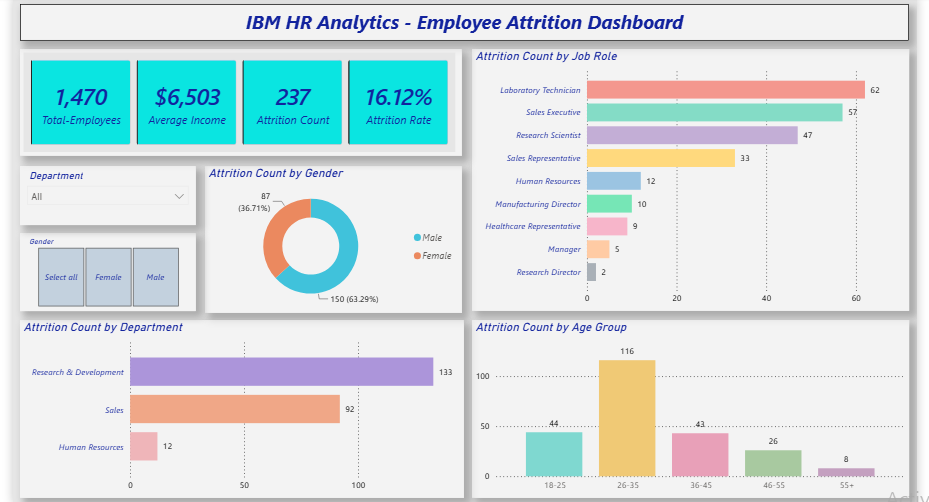

Layout of this report page (visuals, bound fields, positions):
{"tool":"powerbi","page":{"name":"Executive Summary","canvas":[1280,720],"ordinal":0},"visuals":[{"type":"donutChart","title":"Attrition Count by Gender","fields":{"Category":["hr_analytics_clean.gender"],"Y":["hr_analytics_clean.Attrition Count"]},"box":[272.5,239.5,363.8,208.1],"z":0},{"type":"textbox","box":[9.9,9.9,1260,52.4],"z":1000},{"type":"clusteredBarChart","title":"Attrition Count by Department","fields":{"Y":["hr_analytics_clean.Attrition Count"],"Category":["hr_analytics_clean.department"]},"box":[10.5,458.1,628.8,251.5],"z":2000},{"type":"clusteredBarChart","title":"Attrition Count by Job Role","fields":{"Category":["hr_analytics_clean.jobrole"],"Y":["hr_analytics_clean.Attrition Count"]},"box":[651.2,73.4,619.8,371.3],"z":3000},{"type":"clusteredColumnChart","fields":{"Y":["hr_analytics_clean.Attrition Count"],"Category":["hr_analytics_clean.Age Group"]},"box":[651.2,458.1,619.8,251.5],"z":4000},{"type":"cardVisual","fields":{"Data":["hr_analytics_clean.Total-Employees","hr_analytics_clean.Average Income","hr_analytics_clean.Attrition Count","hr_analytics_clean.Attrition Rate"]},"box":[10.5,73.4,625.8,151.2],"z":5000},{"type":"slicer","fields":{"Values":["hr_analytics_clean.gender"]},"box":[10.5,333.8,248.5,110.8],"z":7000},{"type":"slicer","fields":{"Values":["hr_analytics_clean.department"]},"box":[10.5,239.5,248.5,83.8],"z":8000}]}

Visuals, with their boxes in screenshot pixels (x1, y1, x2, y2):
"Attrition Count by Gender" donutChart: (x1=200, y1=164, x2=460, y2=313)
textbox: (x1=12, y1=0, x2=912, y2=37)
"Attrition Count by Department" clusteredBarChart: (x1=12, y1=320, x2=462, y2=500)
"Attrition Count by Job Role" clusteredBarChart: (x1=470, y1=45, x2=913, y2=311)
clusteredColumnChart - hr_analytics_clean.Attrition Count x hr_analytics_clean.Age Group: (x1=470, y1=320, x2=913, y2=500)
cardVisual - hr_analytics_clean.Total-Employees x hr_analytics_clean.Average Income: (x1=12, y1=45, x2=460, y2=153)
slicer - hr_analytics_clean.gender: (x1=12, y1=231, x2=190, y2=310)
slicer - hr_analytics_clean.department: (x1=12, y1=164, x2=190, y2=224)
